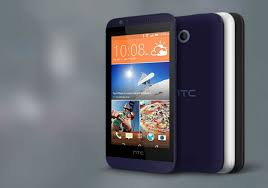htc: (101, 10, 176, 174)
